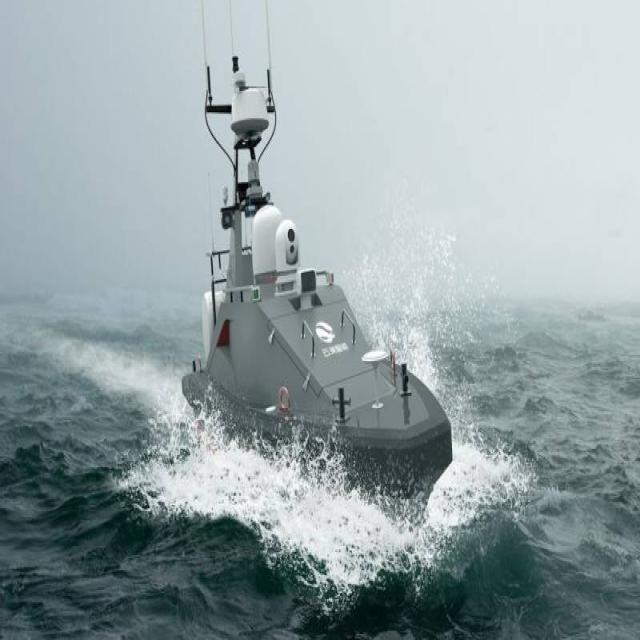navalvessels: (180, 25, 456, 521)
